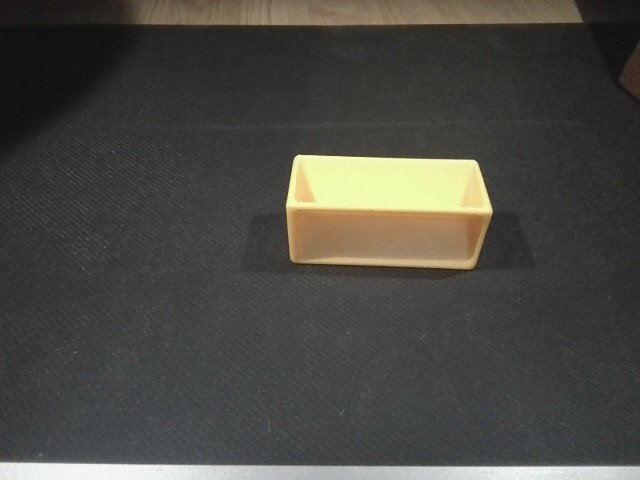YellowSample: (283, 149, 499, 282)
